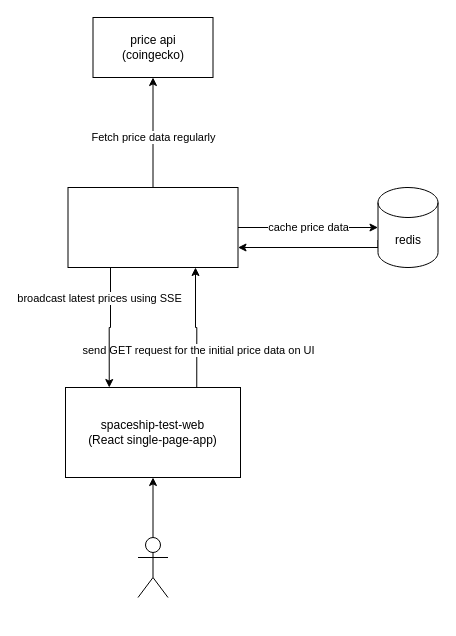
Some shapes in this 456 by 636 pixel diagram are drawn without their labels. The box of each missing label's shape, as (x1, y1, x2, y2) in pixels:
spaceship-test-backend (node.js): (67, 186, 238, 268)
User: (137, 536, 168, 598)
